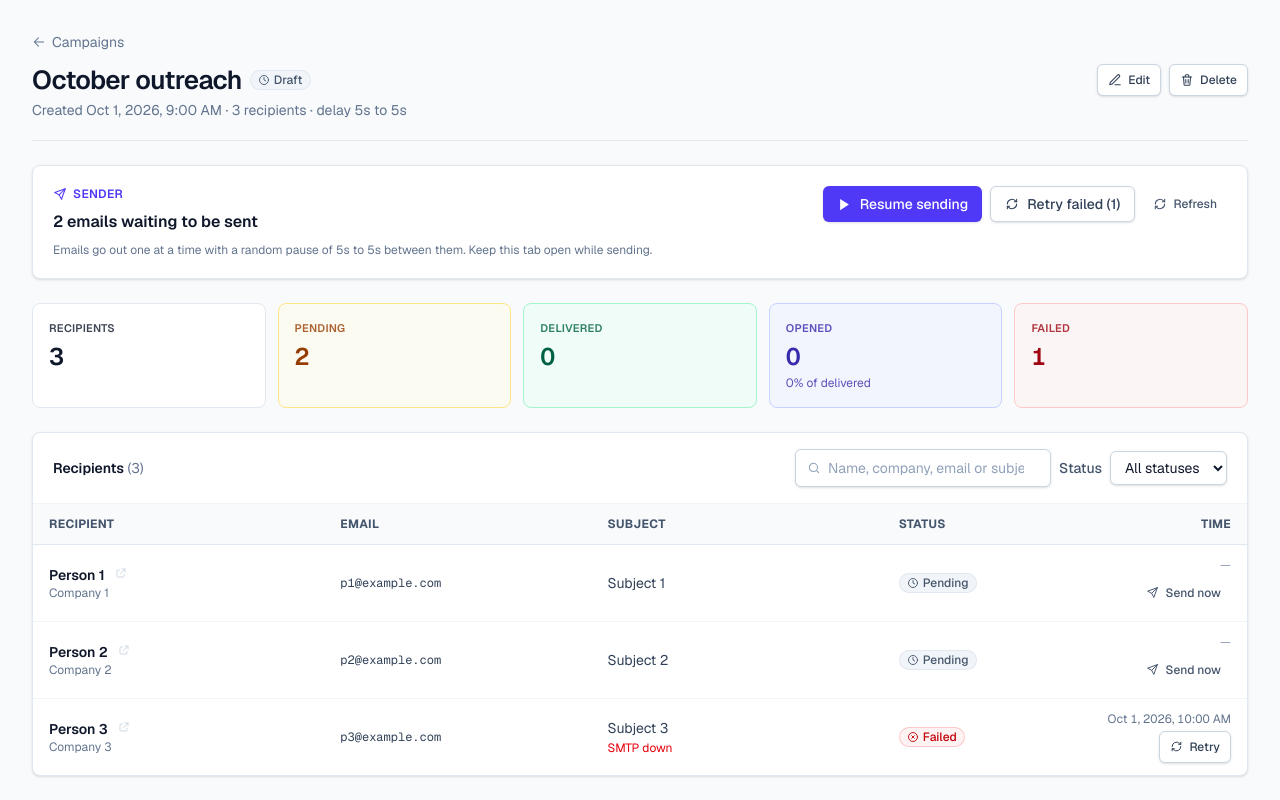
Test: CampaignDetailPage › sends a single recipient on demand after confirmation
Click the button "Send now" in the row of "Person 2" at (1184, 670), box [1136, 654, 1231, 686]
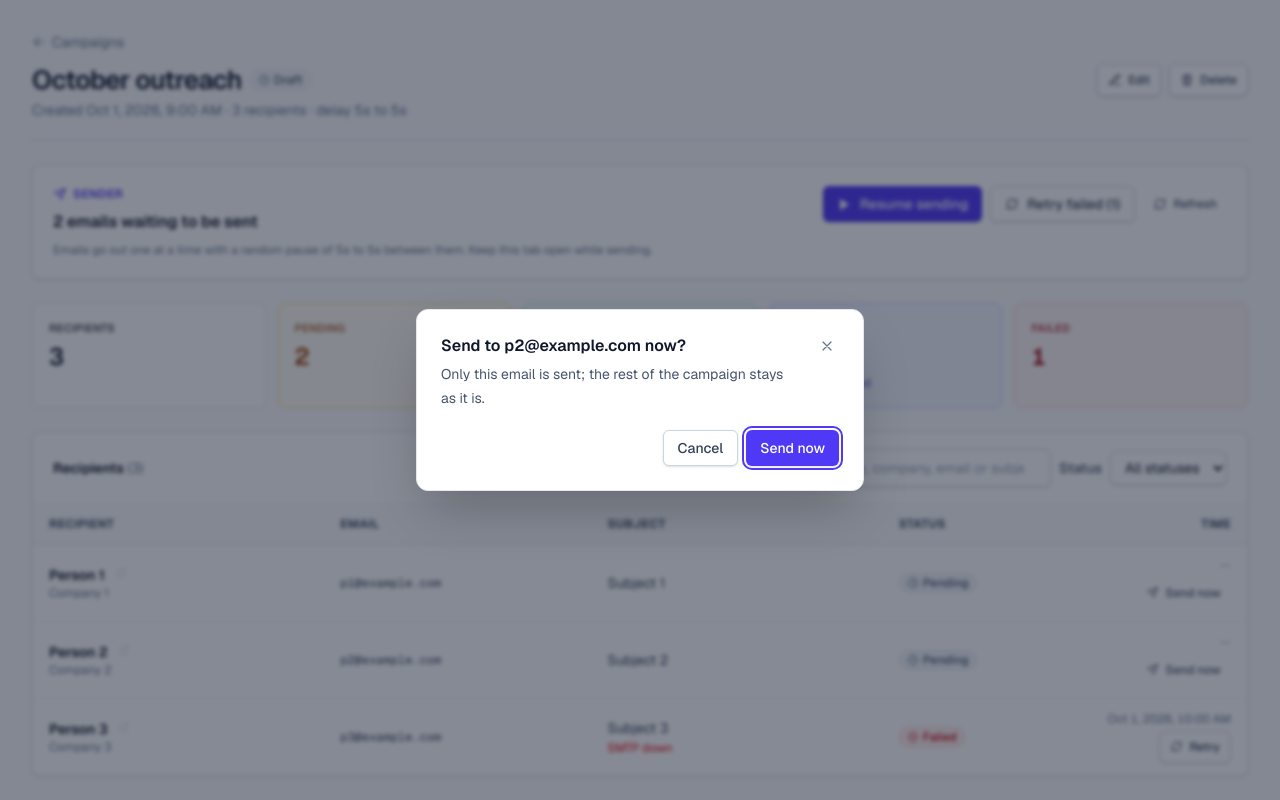
Check: the heading "Send to p2@example.com now?" is shown, box [441, 335, 686, 356]
Click the button "Send now" at (793, 448), box [746, 430, 839, 466]
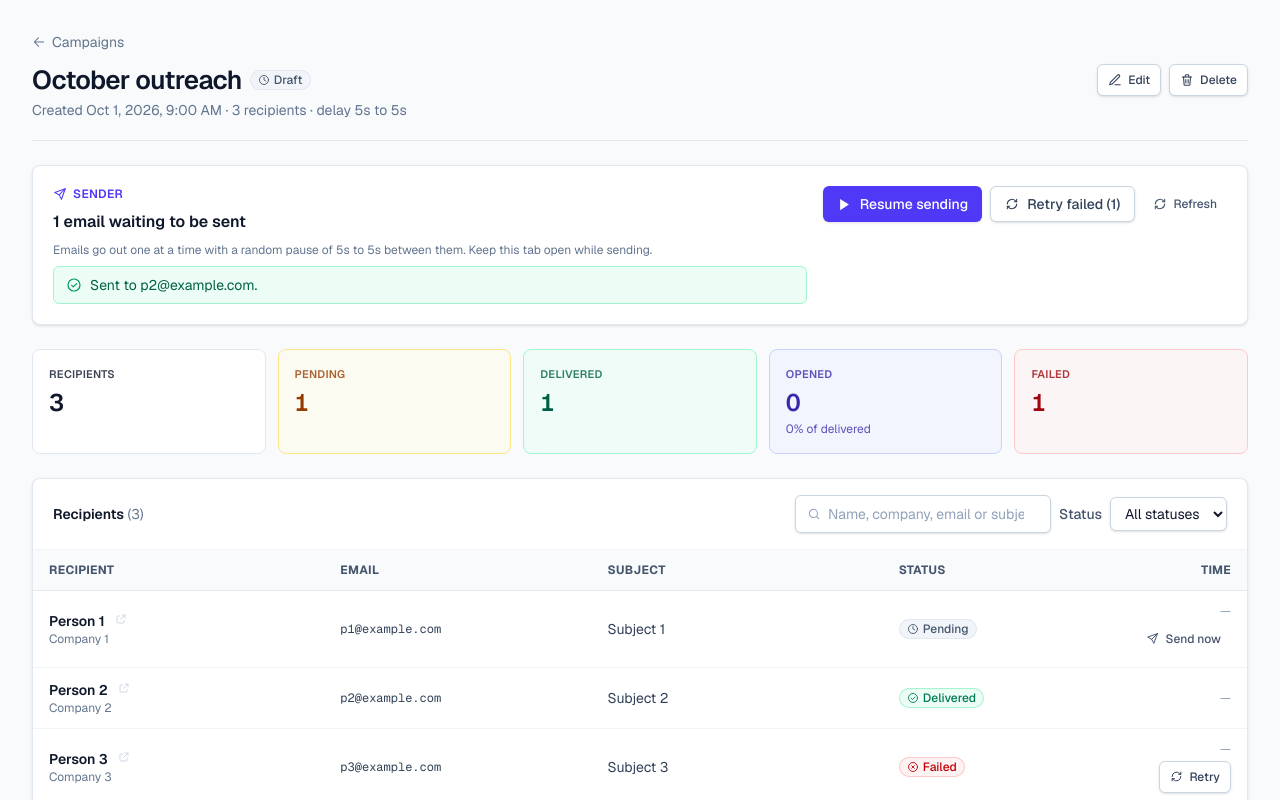
Check: the text "Sent to p2@example.com." is shown, box [90, 275, 257, 295]
